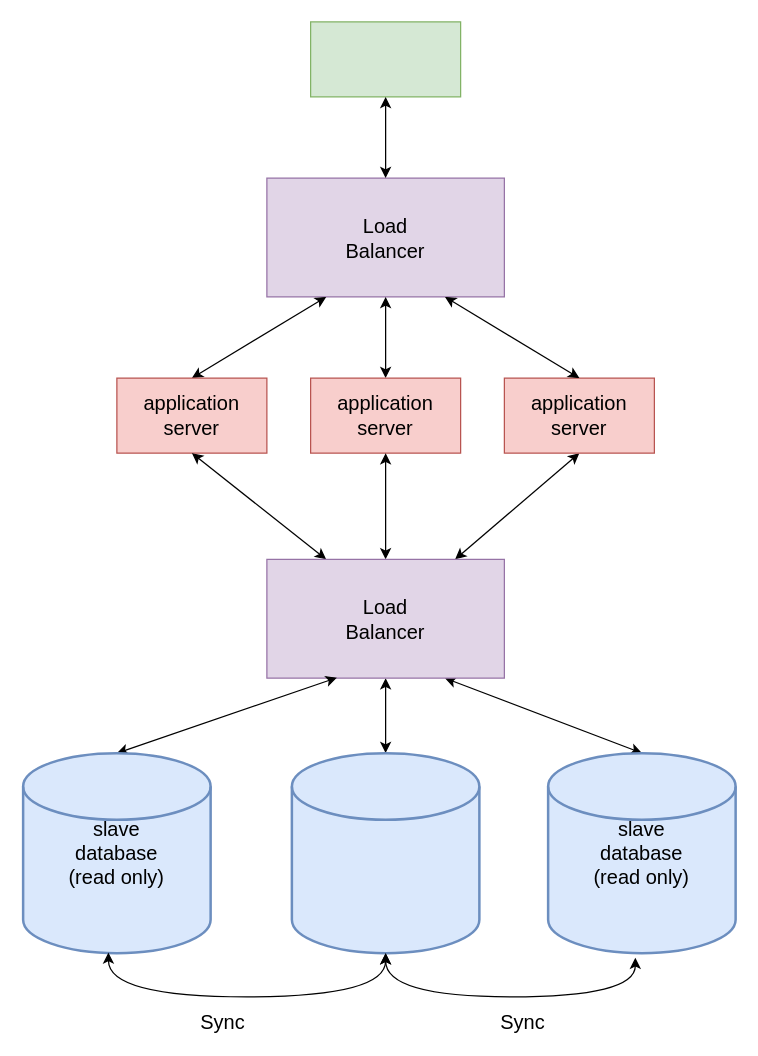
Some shapes in this 758 by 1056 pixel diagram are drawn without their labels. Here are the shapes that lost their labels. From the top down, the centre of each, then its label:
At pixel 385 59: "client".
At pixel 385 852: "master database (read/write)".
